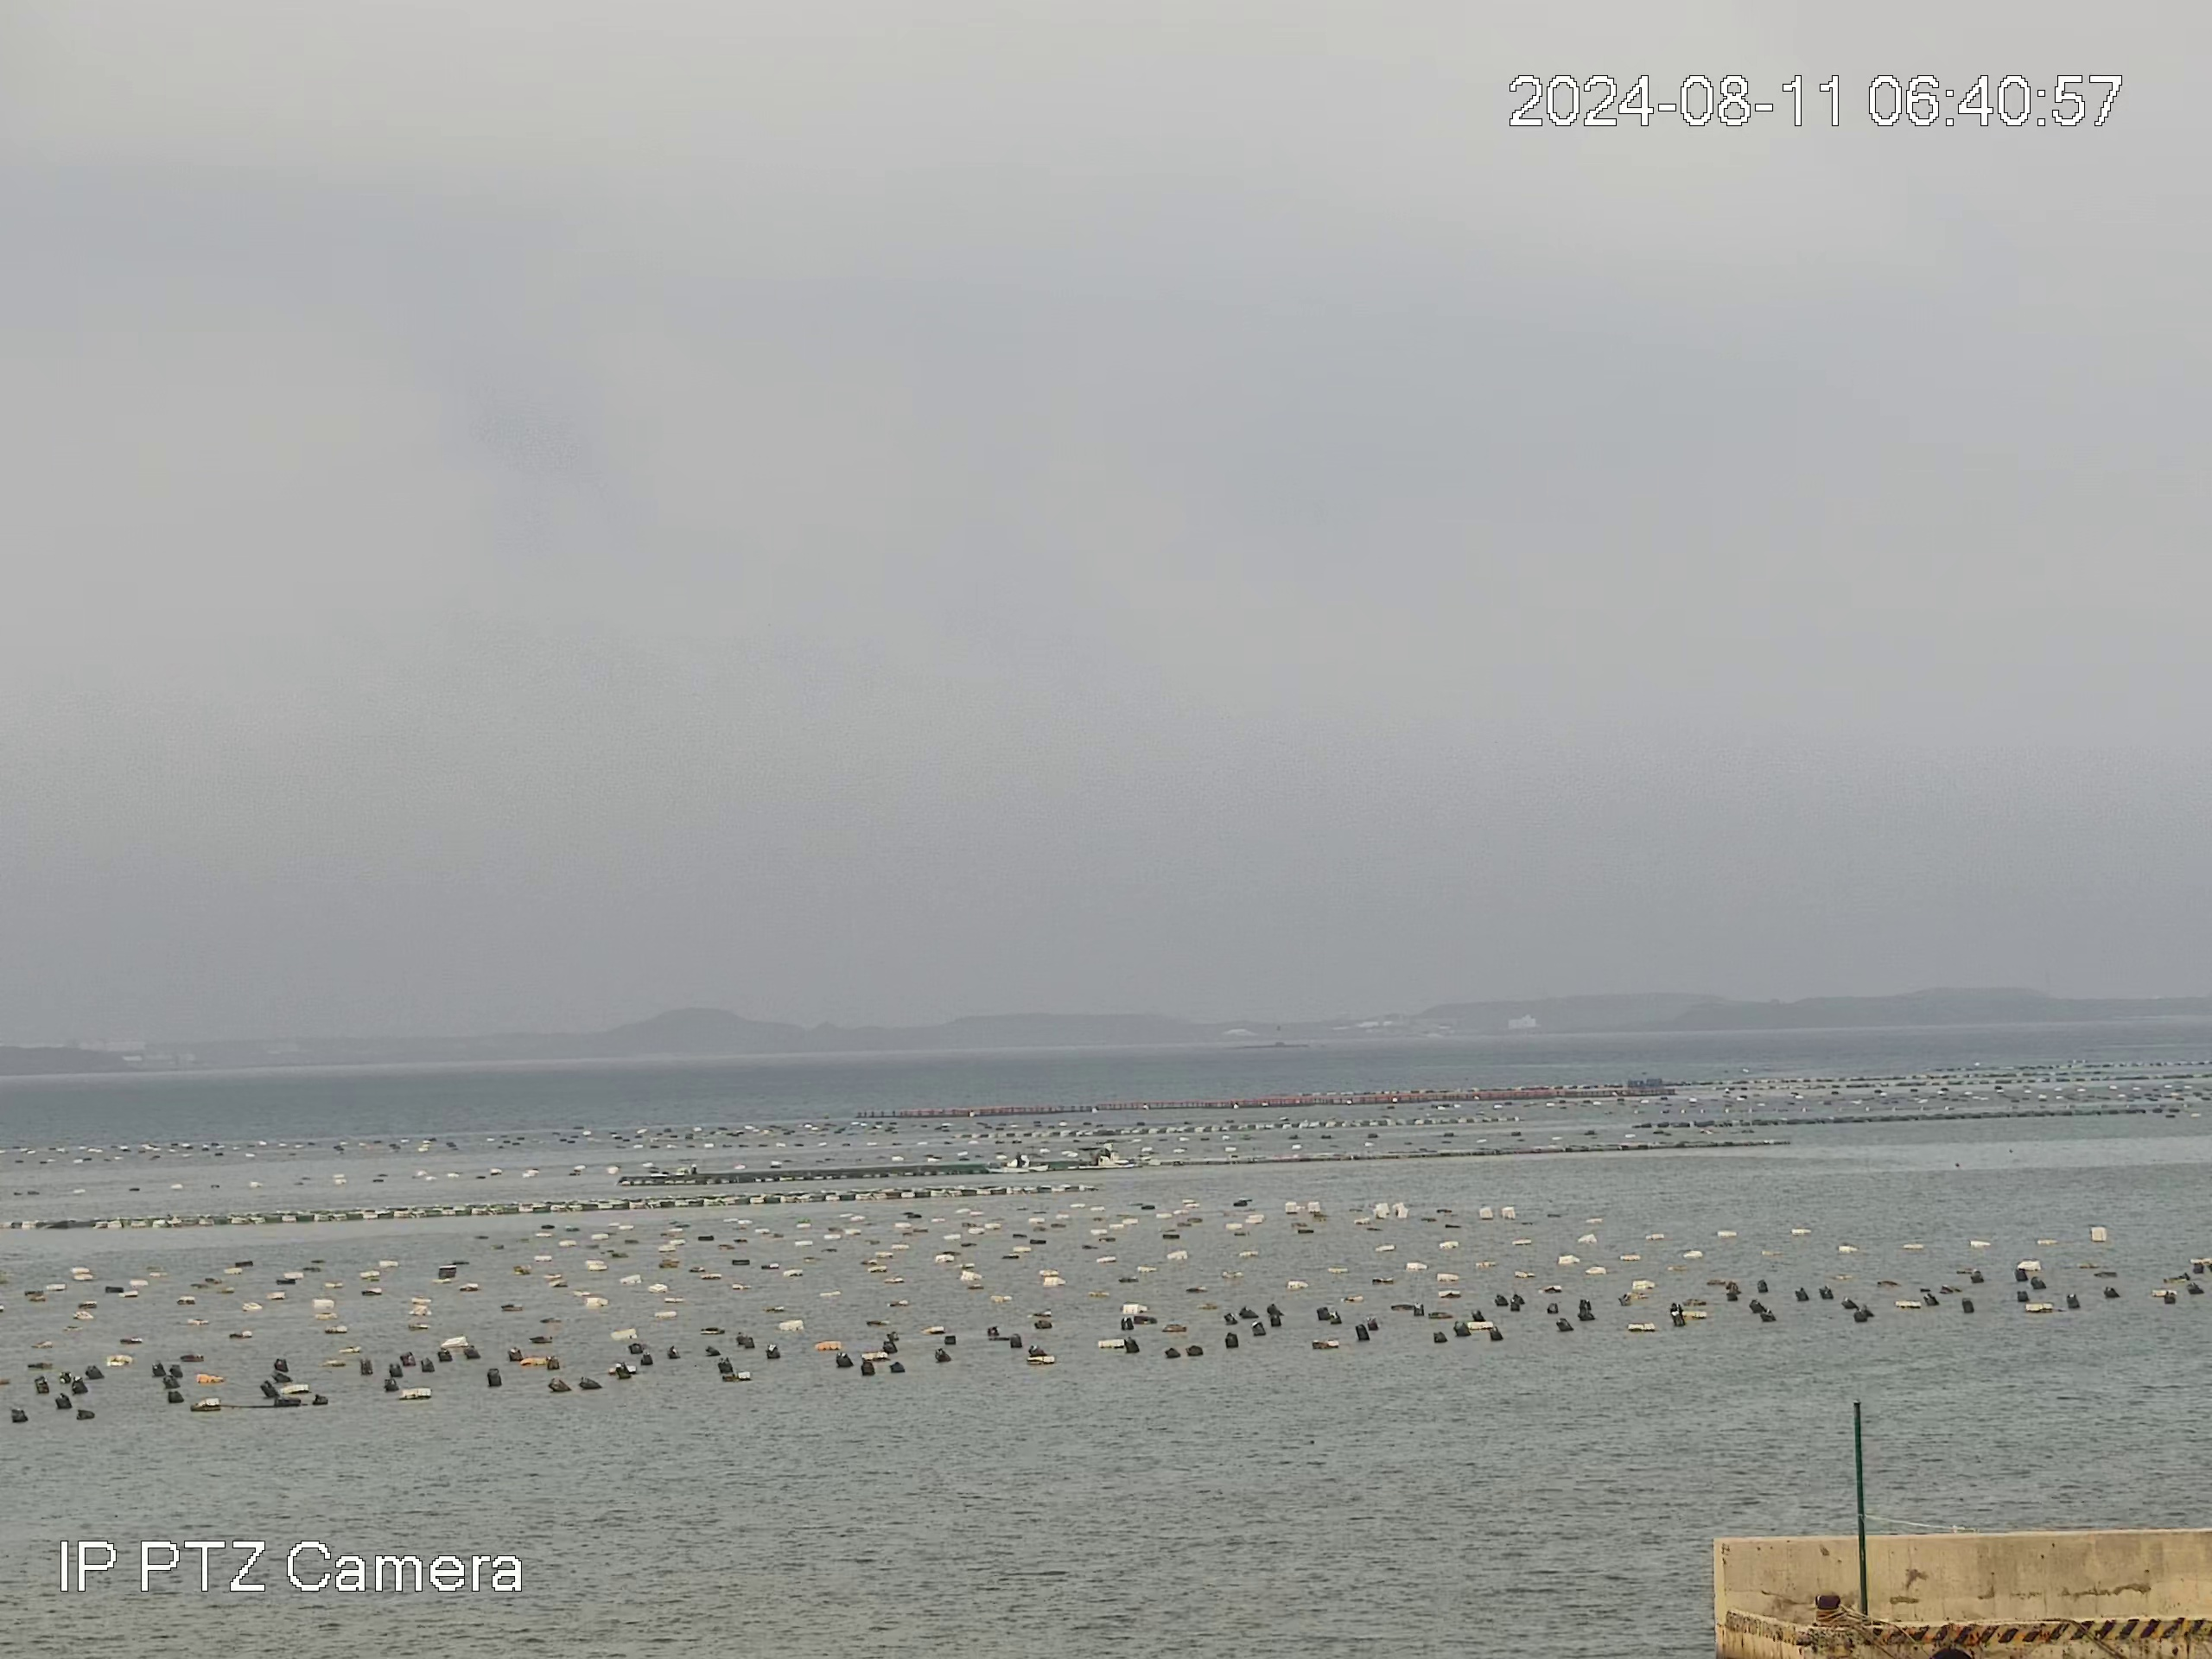boat: (1066, 1145, 1123, 1169), (984, 1154, 1050, 1173)
